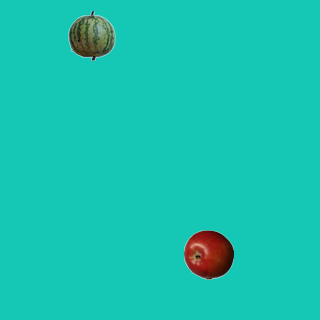Apple Braeburn: (183, 229, 233, 279)
Watermelon: (66, 10, 116, 60)
